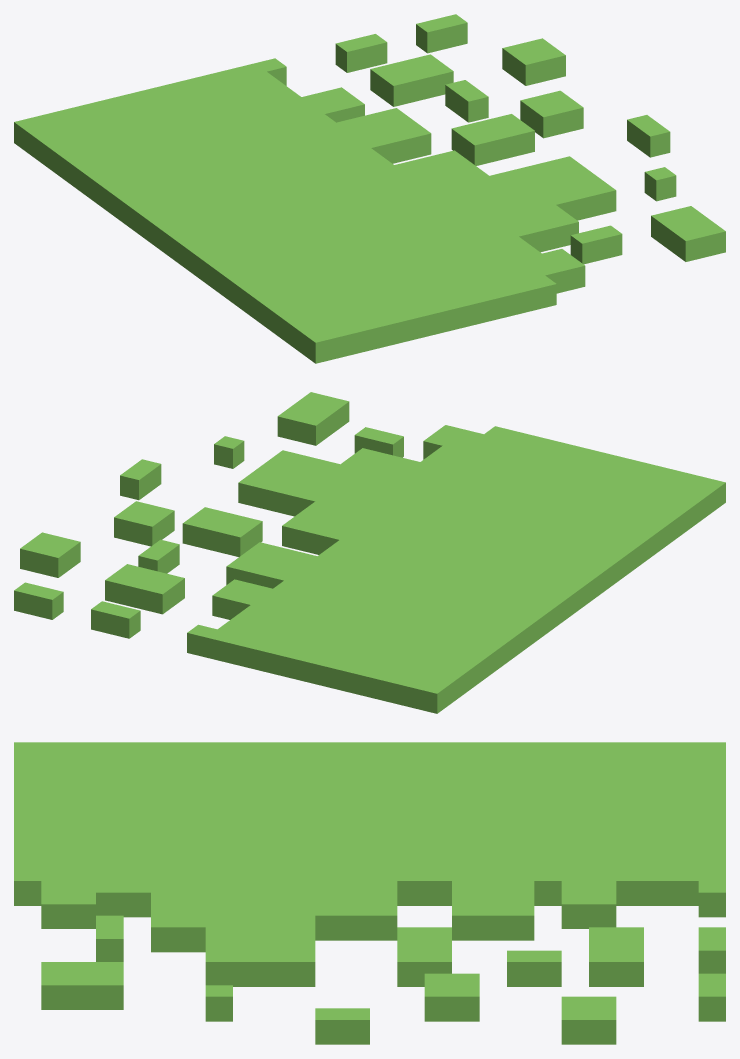
Rendered from Grass 1.obj.
The picture shows the model from 3 angles, top to bottom: view 1: azimuth 30°, elevation 25°; view 2: azimuth 150°, elevation 25°; view 3: azimuth 270°, elevation 25°; orthographic projection. The views are drawn at different scales.
Bounding box in the file's own units: 2.4 × 0.1 × 2.6.
1 material, 1 textured.
